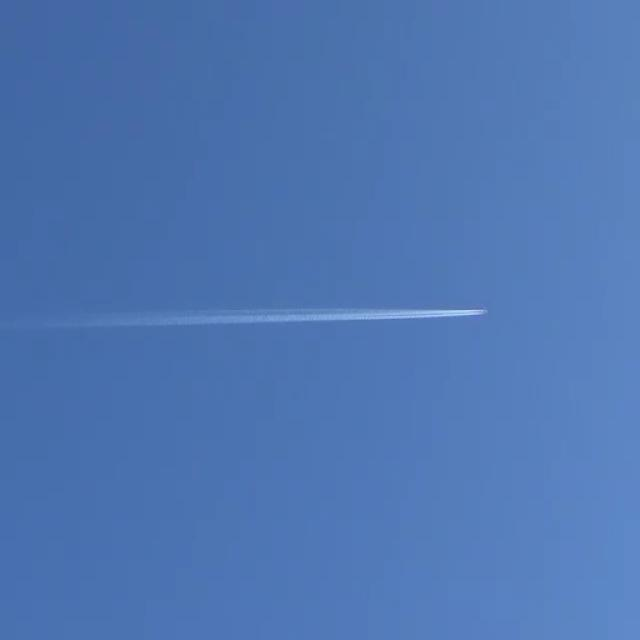AirPlane: (415, 289, 500, 337)
